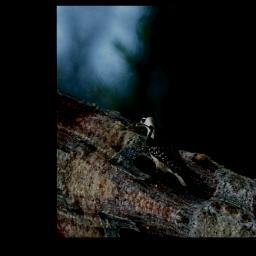Woodpecker: (126, 105, 218, 199)
